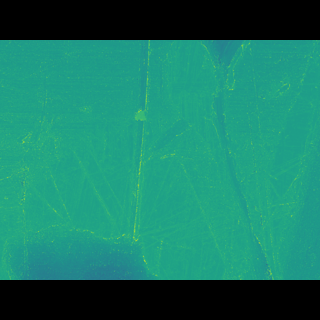Loch: (10, 122, 282, 250), (160, 69, 320, 187)
